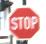stopsign: (9, 7, 41, 39)
